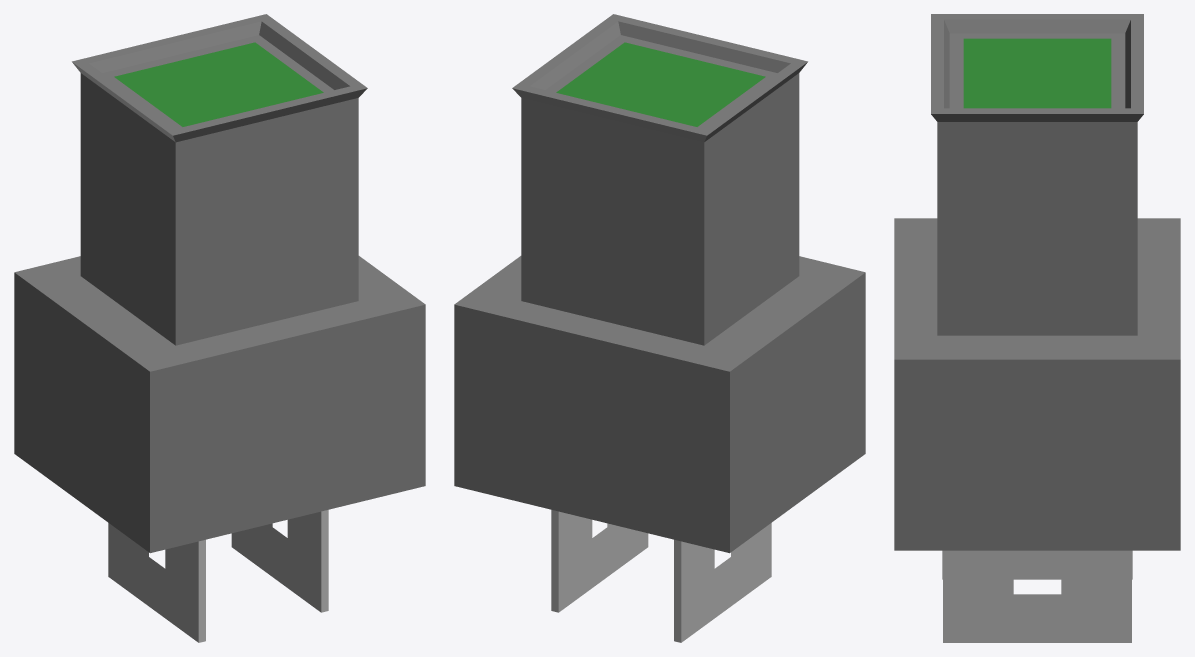
The model's file is WardenBoard-Guard(ON).fbx.
3 views of the same model, side by side, from view 1: azimuth 30°, elevation 25°; view 2: azimuth 150°, elevation 25°; view 3: azimuth 270°, elevation 25° (orthographic). The views are drawn at different scales.
Visible parts, largest first — view 1: Cube.013; view 2: Cube.013; view 3: Cube.013.
Part boxes in pixels (<box>): Cube.013: <box>14,14,425,642</box>; Cube.013: <box>454,14,865,642</box>; Cube.013: <box>894,14,1180,642</box>.
Bounding box in the file's own units: 52.78 × 94.96 × 45.09.
